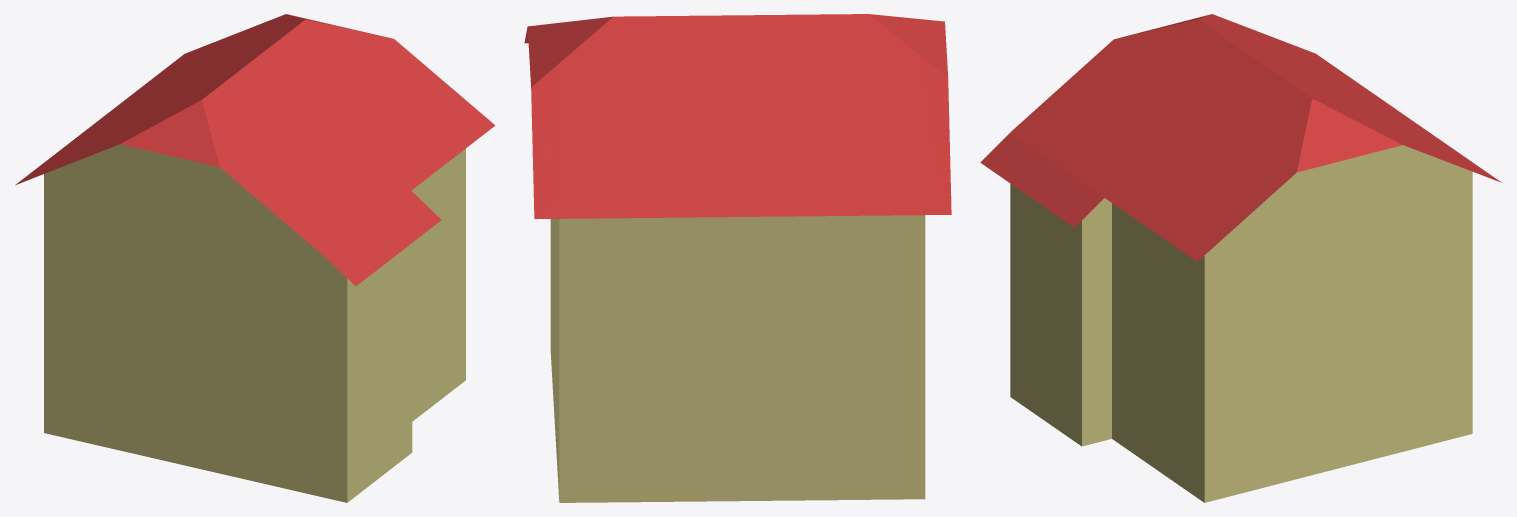
The picture shows the model from 3 angles, left to right: view 1: azimuth 30°, elevation 25°; view 2: azimuth 150°, elevation 25°; view 3: azimuth 270°, elevation 25°; orthographic projection. The views are drawn at different scales.
Bounding box in the file's own units: 16.82 × 17.83 × 13.24.
